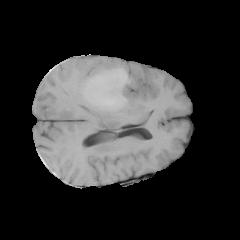glioma: (77, 62, 147, 111)
